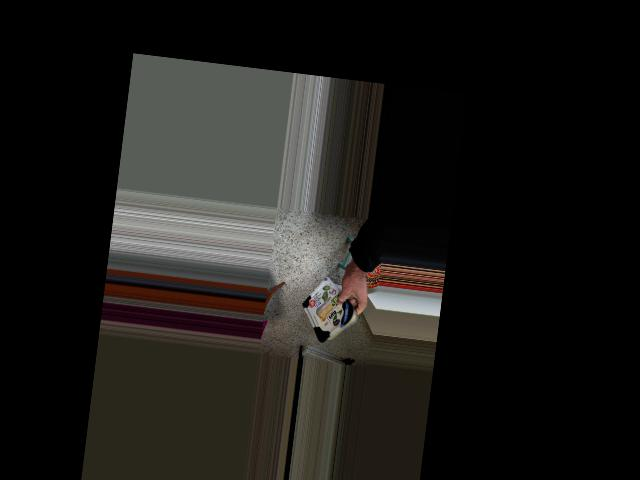cheese: (292, 283, 372, 346)
